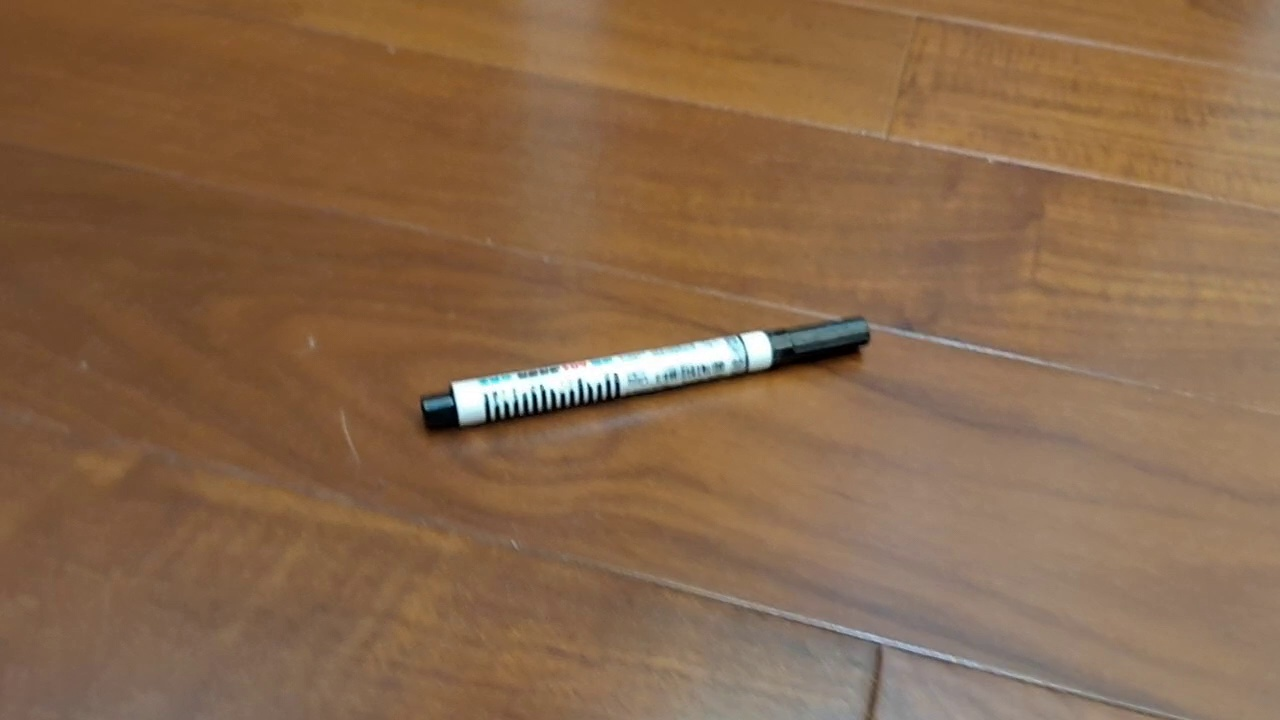pen: (419, 315, 872, 434)
